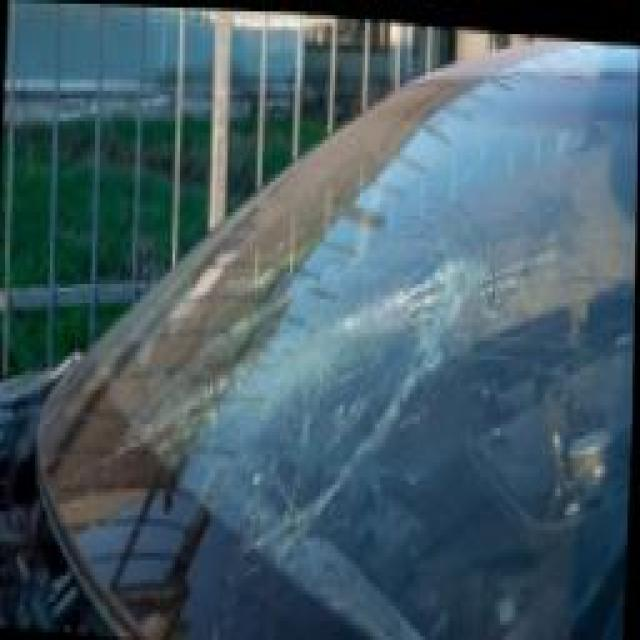Windshield: (28, 15, 640, 639)
